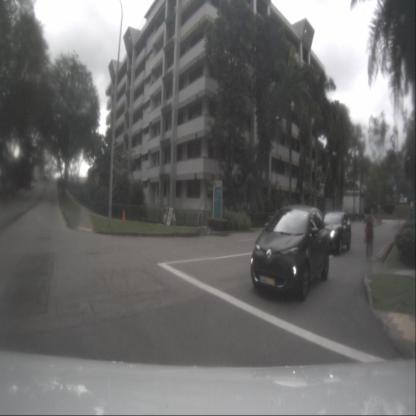human-pedestrian-adult: (364, 216, 373, 258)
movable_object-trafficcone: (122, 210, 126, 224)
vehicle-car: (251, 206, 329, 302), (319, 211, 351, 256)
vehicle-truck: (364, 207, 375, 224)
